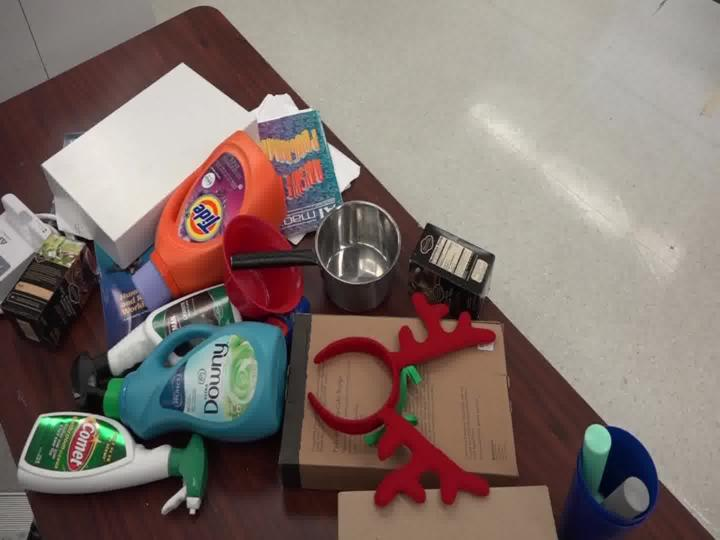downy: (74, 303, 294, 452)
